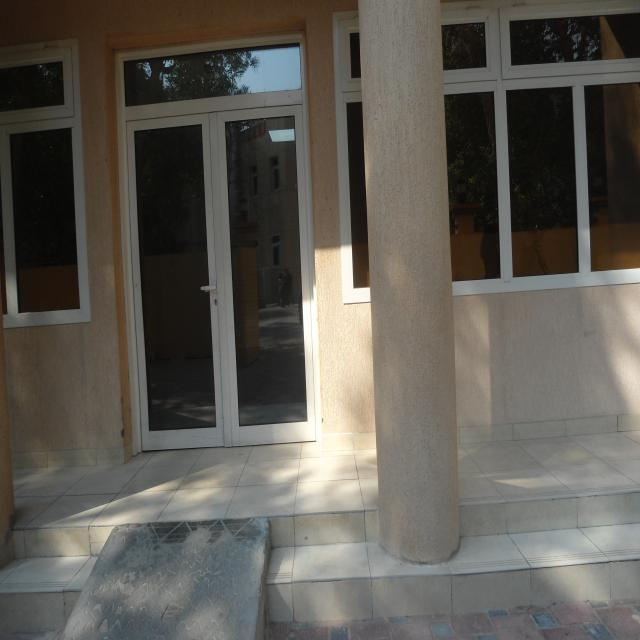door: (109, 49, 319, 454)
pillar: (340, 0, 474, 555)
ramp: (81, 503, 268, 640)
stairs: (273, 457, 640, 627), (0, 508, 94, 622)
window: (337, 3, 640, 297), (0, 38, 94, 355)
